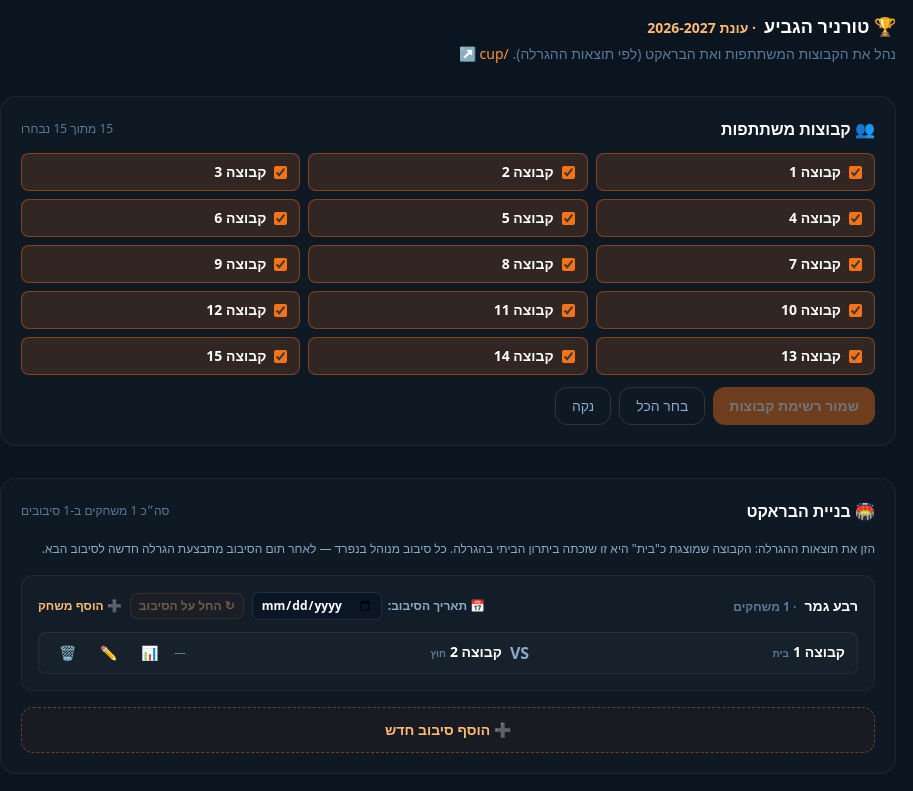
CupTab — round date is only saved on apply › warns while a picked round date is not saved yet
Type "2026-12-05" into the date field labelled "📅 תאריך הסיבוב:" at (317, 606), box [252,592,382,620]
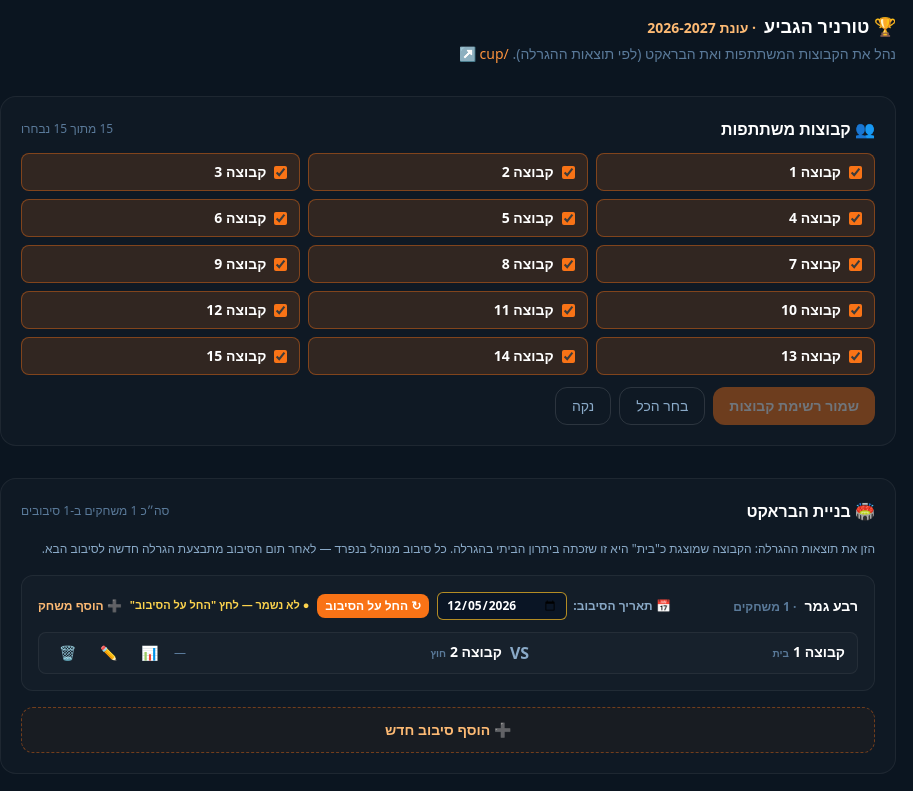
expect the text "● לא נשמר — לחץ \"החל על הסיבוב\"" is shown: met, box [130,597,309,614]
